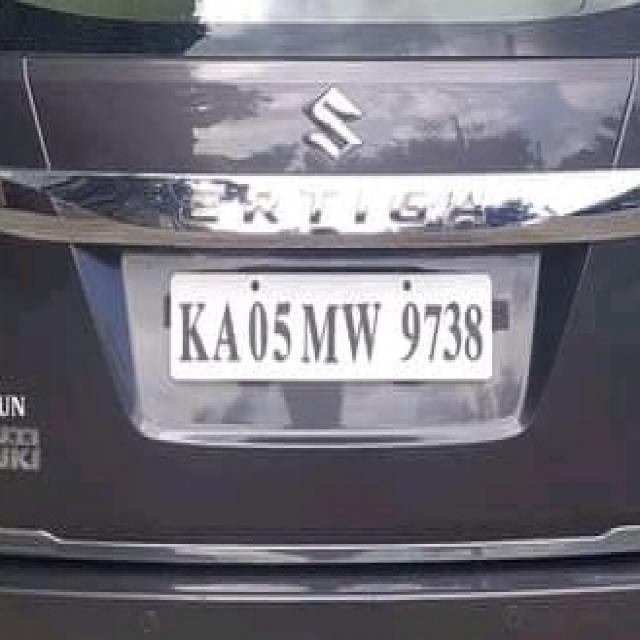0: (245, 296, 271, 368)
3: (446, 301, 462, 367)
5: (269, 296, 294, 369)
7: (423, 294, 445, 372)
8: (465, 298, 487, 364)
9: (397, 296, 422, 368)
A: (209, 292, 242, 371)
K: (178, 292, 210, 370)
M: (300, 300, 339, 372)
W: (339, 296, 382, 368)
